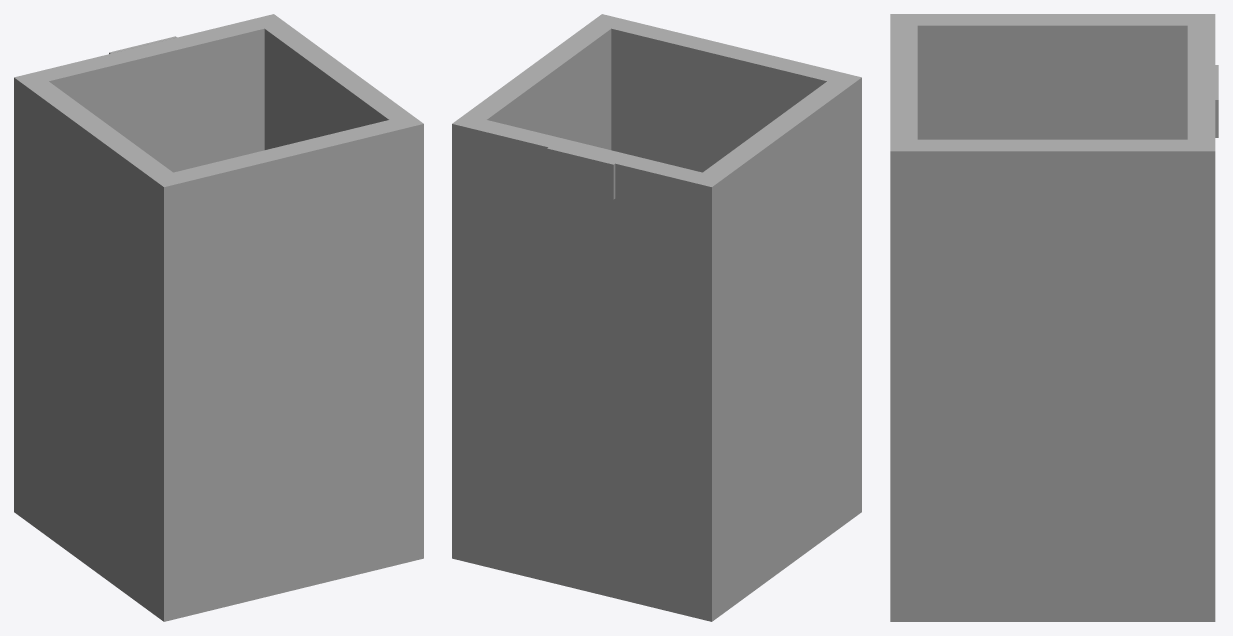
The model's file is Itr_Trashcan2_Body_02.FBX.
The picture shows the model from 3 angles, left to right: view 1: azimuth 30°, elevation 25°; view 2: azimuth 150°, elevation 25°; view 3: azimuth 270°, elevation 25°; orthographic projection. The views are drawn at different scales.
Parts seen in each view (by area): view 1: Itr_Trashcan2_Body_02; view 2: Itr_Trashcan2_Body_02; view 3: Itr_Trashcan2_Body_02.
Part boxes in pixels (x1=…): Itr_Trashcan2_Body_02: x1=14, y1=14, x2=423, y2=621; Itr_Trashcan2_Body_02: x1=452, y1=14, x2=861, y2=621; Itr_Trashcan2_Body_02: x1=890, y1=14, x2=1218, y2=621.
Size of the model in its own units: 14.85 by 23.74 by 15.01.
